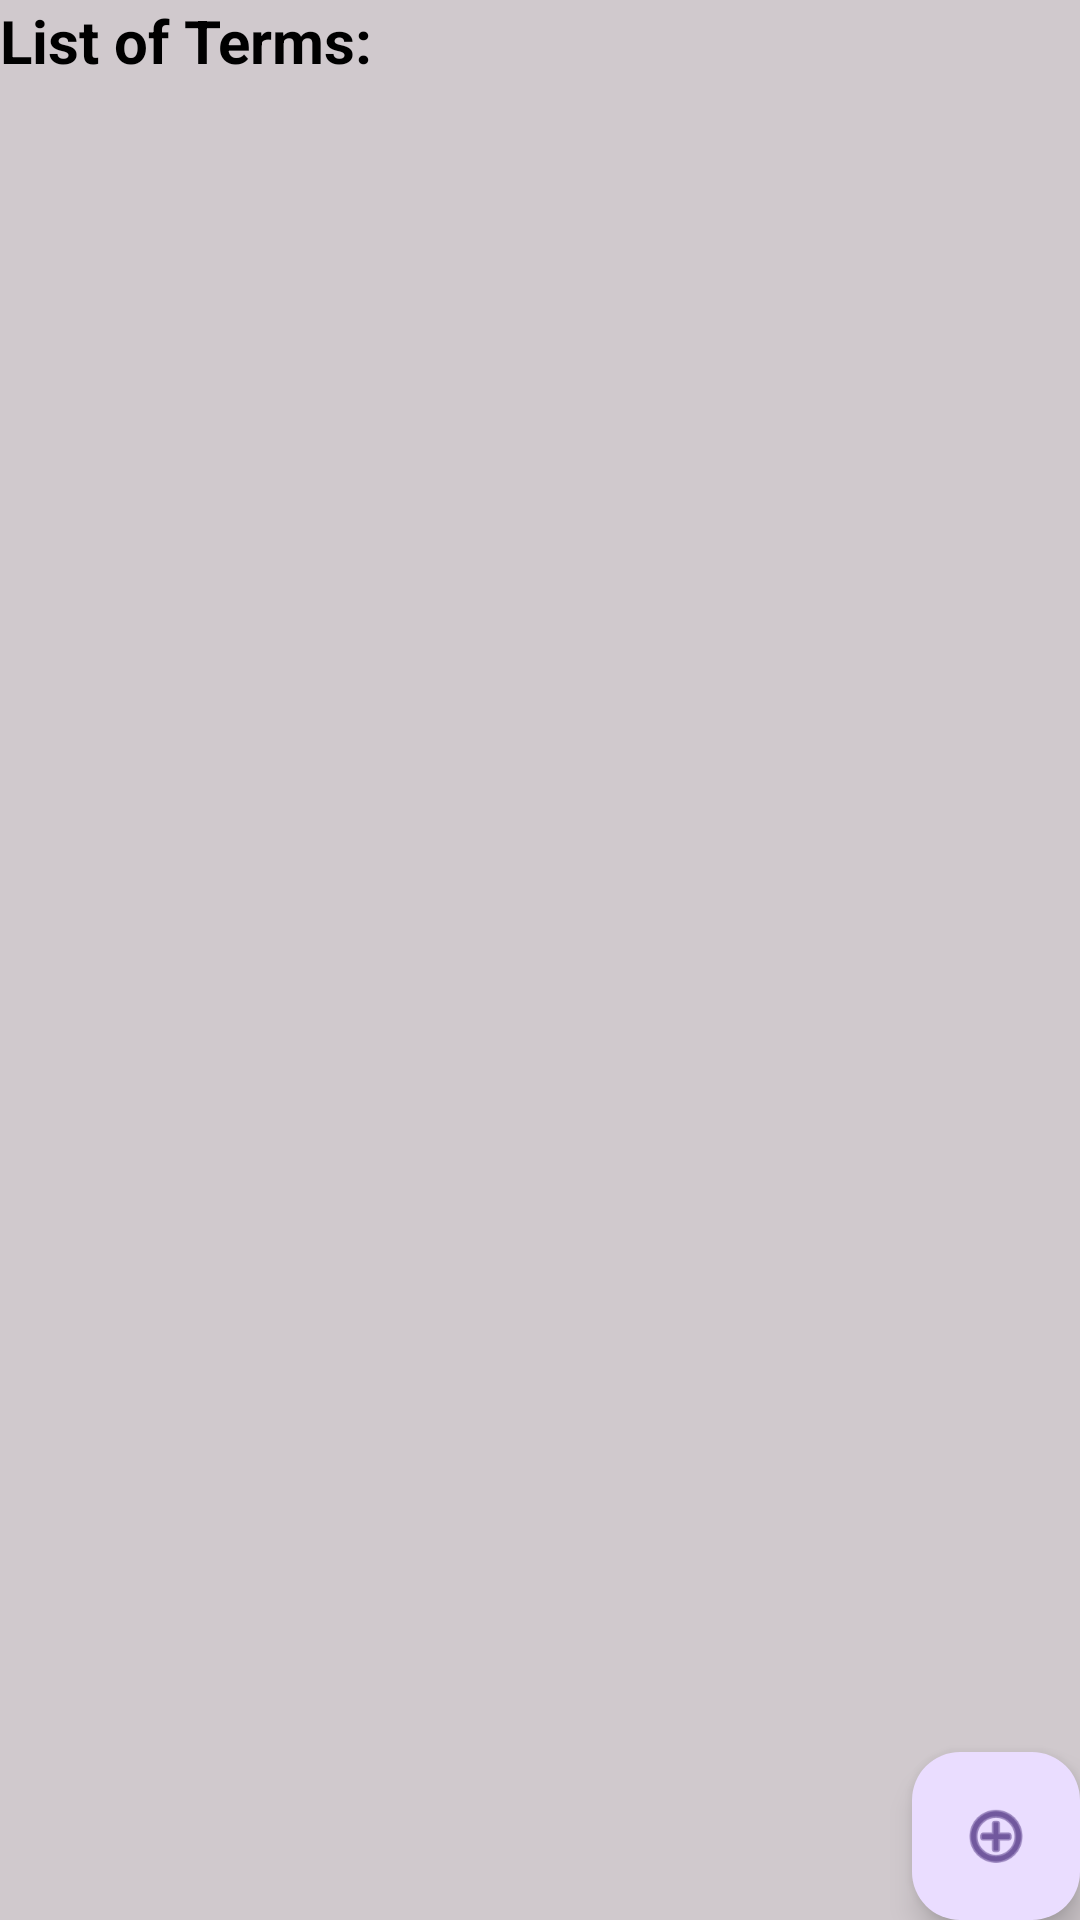

Icons on this 1080px×1920px Android screen, each with its box as (x1, y1, x2, y2):
Terms Add Floating Button: (912, 1752, 1080, 1920)
